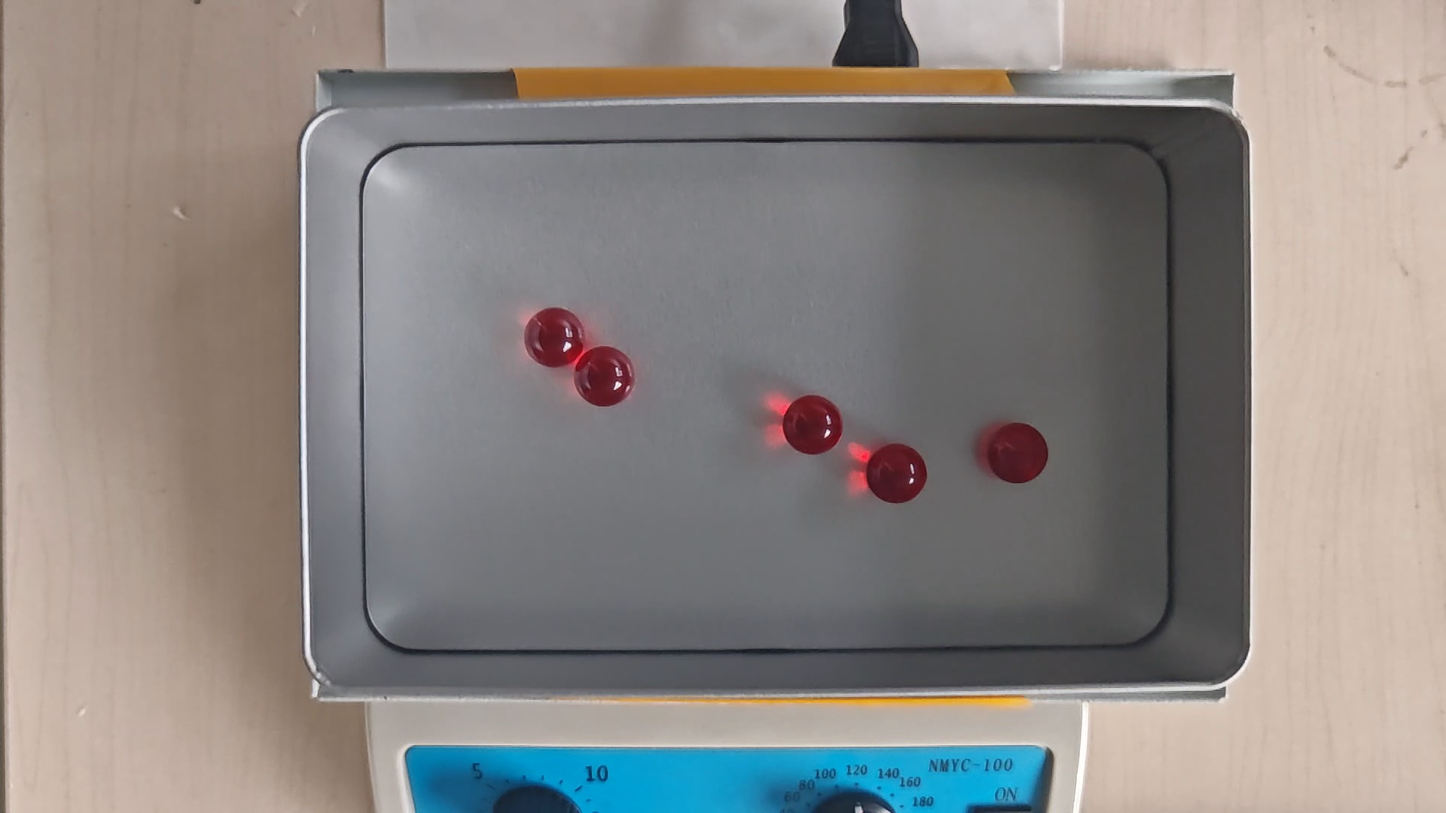ball: (783, 394, 844, 455), (990, 422, 1048, 486), (867, 442, 926, 504), (576, 346, 634, 407), (526, 306, 583, 367)
container: (356, 137, 1173, 653)
